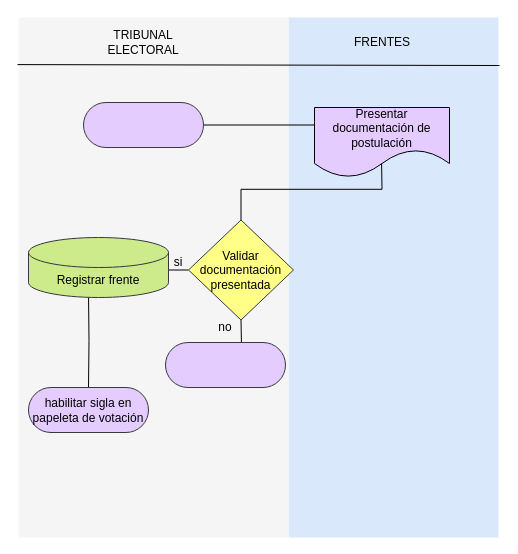
Image size: 518x554. Some labels were removed from this diagram. The shapes that lost their labels are listed below. From the top down, each one's box as (x1, y1, x2, y2) in pixels, then its label:
(82, 102, 204, 148): Publicar proceso de inscripción de frentes
(164, 342, 286, 388): Comunicar el rechazo de la postulación
